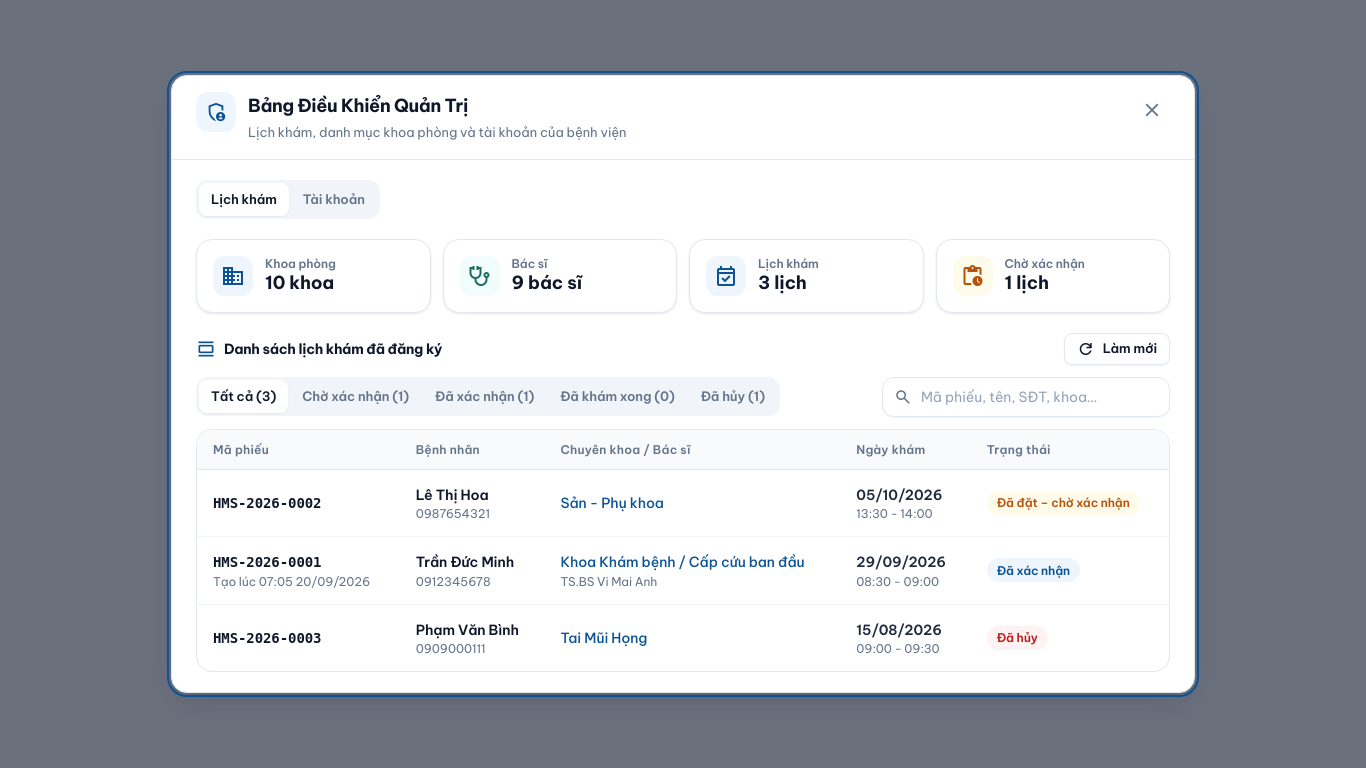
Test: AdminPanelModal › filters by status using a pressed-state segmented control
Check: the table is shown, box [197, 430, 1169, 671]
What coordinates should you click on to do the following:
click the button "Đã hủy (1)"
I would click on:
 (733, 397)
Its box is [689, 380, 777, 413].
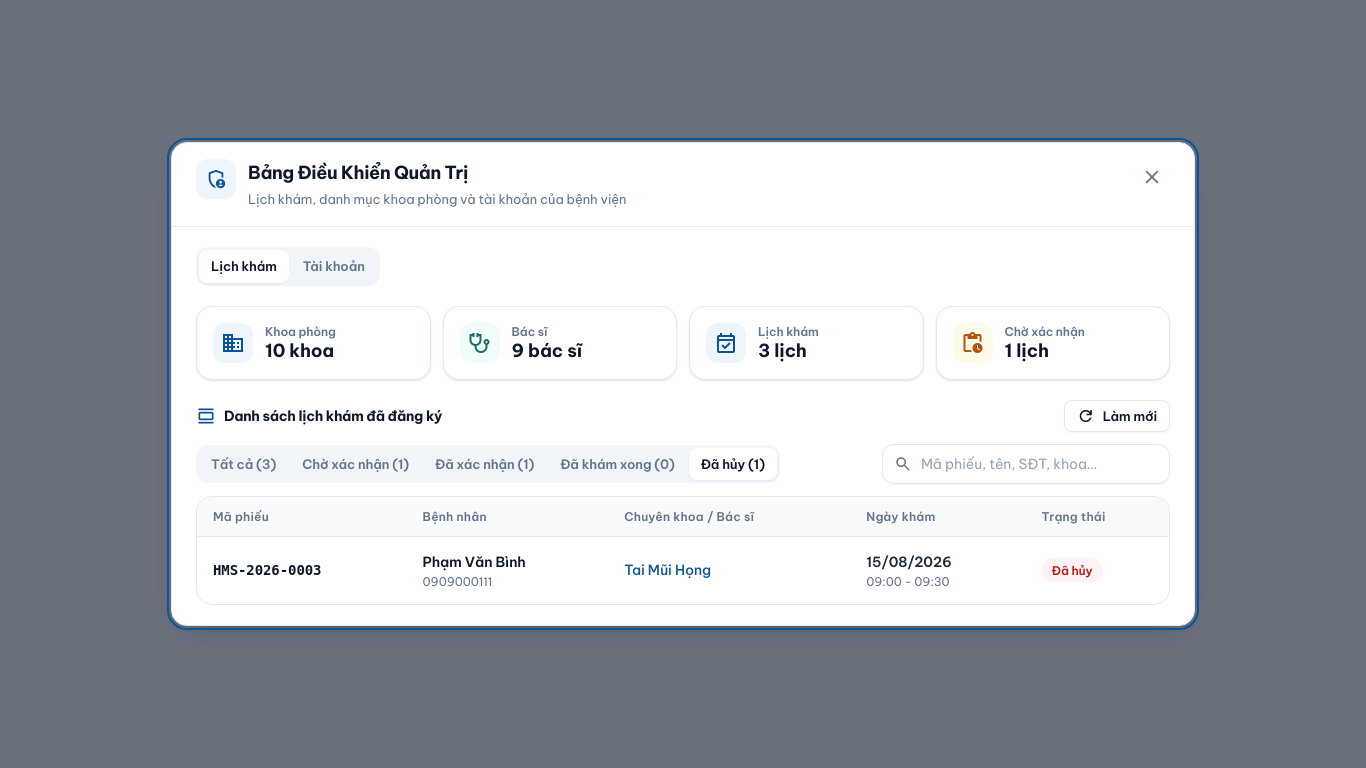
Check: the text "Phạm Văn Bình" is shown, box [422, 553, 526, 571]
Check: the number of rows is 2, box [197, 497, 1169, 537]; [197, 537, 1169, 604]
